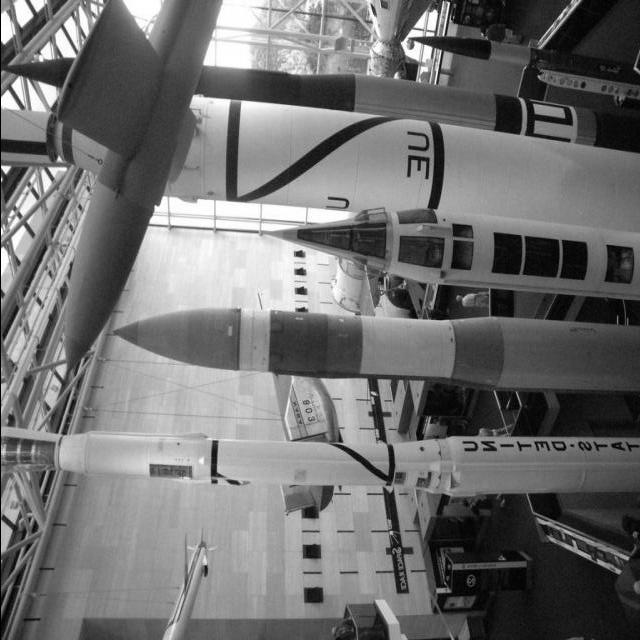missile: (0, 417, 640, 511), (110, 293, 637, 394), (273, 208, 640, 304)
